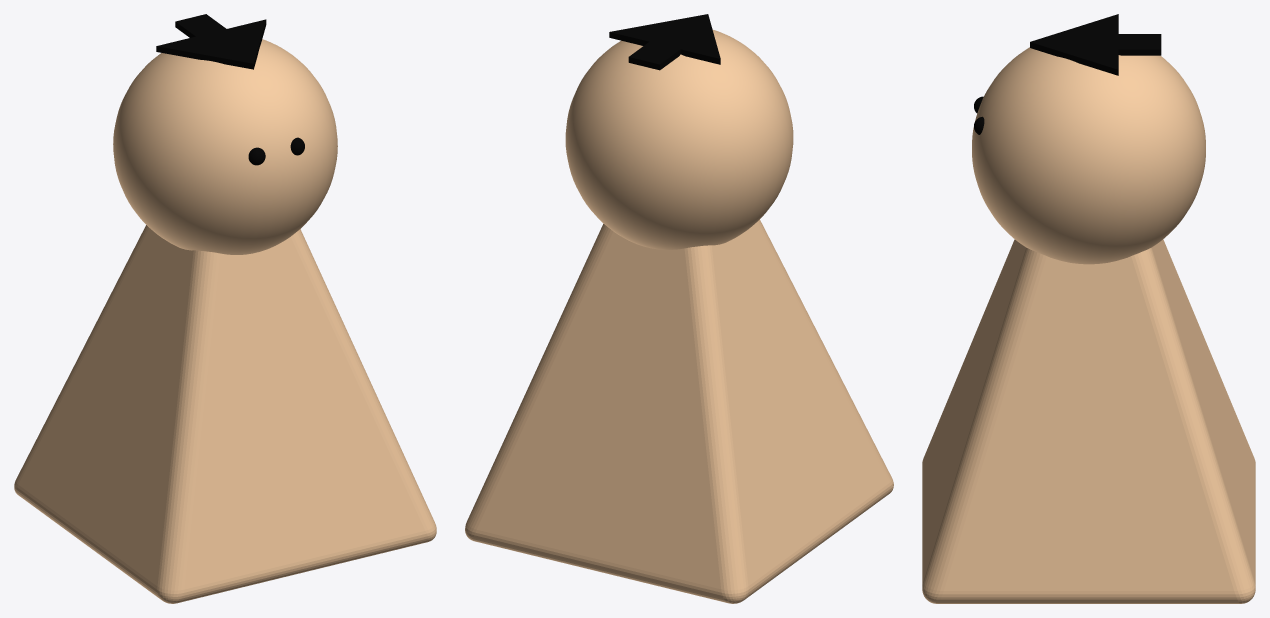
Rendered from 5newb.obj.
The picture shows the model from 3 angles, left to right: view 1: azimuth 30°, elevation 25°; view 2: azimuth 150°, elevation 25°; view 3: azimuth 270°, elevation 25°; orthographic projection. The views are drawn at different scales.
Parts seen in each view (by area): view 1: 1_Curve.003_Curve.004, Cube.004_Cube.005_Cube.004_Cube.006; view 2: 1_Curve.003_Curve.004, Cube.004_Cube.005_Cube.004_Cube.006; view 3: 1_Curve.003_Curve.004, Cube.004_Cube.005_Cube.004_Cube.006.
Boxes of the visible parts, x1,y1,x2,y2 form: 1_Curve.003_Curve.004: [14, 39, 436, 603]; Cube.004_Cube.005_Cube.004_Cube.006: [156, 14, 304, 165]; 1_Curve.003_Curve.004: [465, 30, 893, 603]; Cube.004_Cube.005_Cube.004_Cube.006: [609, 14, 720, 70]; 1_Curve.003_Curve.004: [922, 47, 1255, 603]; Cube.004_Cube.005_Cube.004_Cube.006: [974, 14, 1161, 134].
Size of the model in its own units: 0.2932 by 0.4809 by 0.2932.
